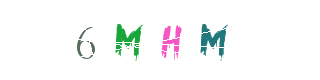6: (110, 0, 190, 80)
H: (120, 0, 200, 80)
M: (119, 0, 199, 80), (131, 0, 211, 80)
